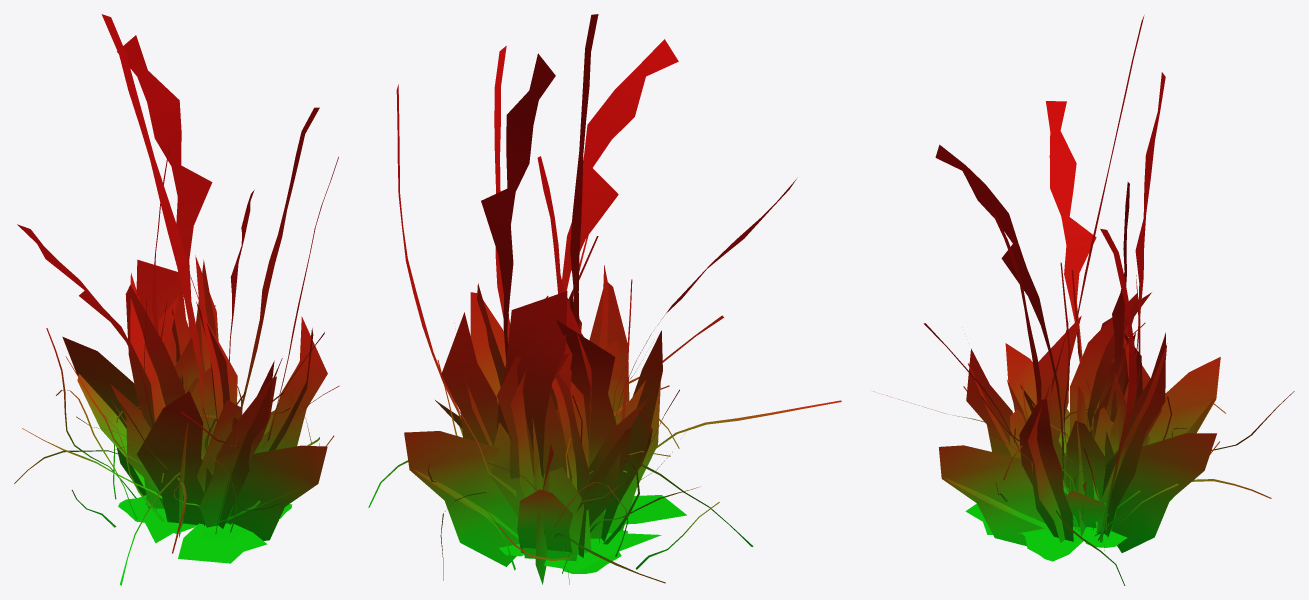
The model's file is Var1_LOD0.fbx.
The picture shows the model from 3 angles, left to right: view 1: azimuth 30°, elevation 25°; view 2: azimuth 150°, elevation 25°; view 3: azimuth 270°, elevation 25°; orthographic projection. The views are drawn at different scales.
Parts seen in each view (by area): view 1: _2d7f_Var1_LOD0; view 2: _2d7f_Var1_LOD0; view 3: _2d7f_Var1_LOD0.
Part boxes in pixels (x1=…): _2d7f_Var1_LOD0: x1=14, y1=14, x2=339, y2=585; _2d7f_Var1_LOD0: x1=368, y1=14, x2=841, y2=584; _2d7f_Var1_LOD0: x1=874, y1=15, x2=1294, y2=585.
Size of the model in its own units: 42.27 by 62.02 by 47.73.
